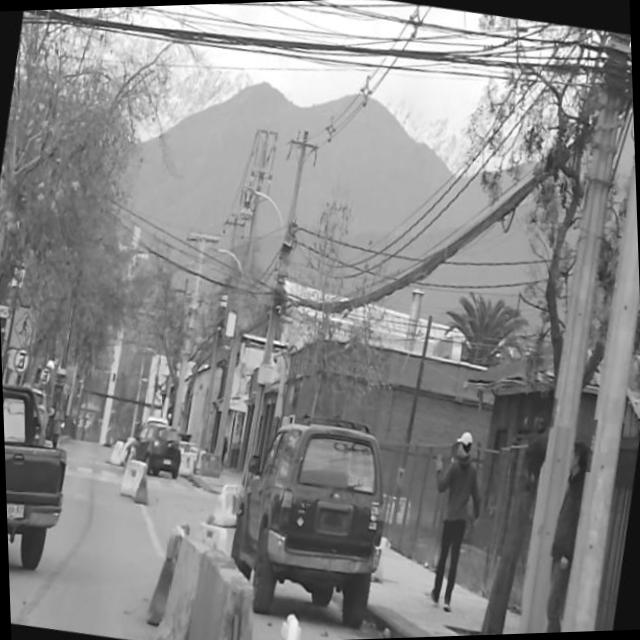person: (407, 425, 494, 618), (516, 432, 598, 633)
